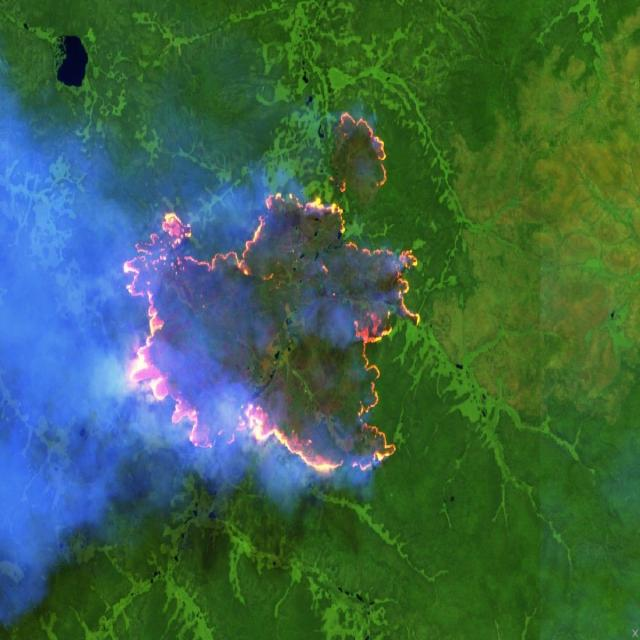fire: (117, 107, 424, 481)
